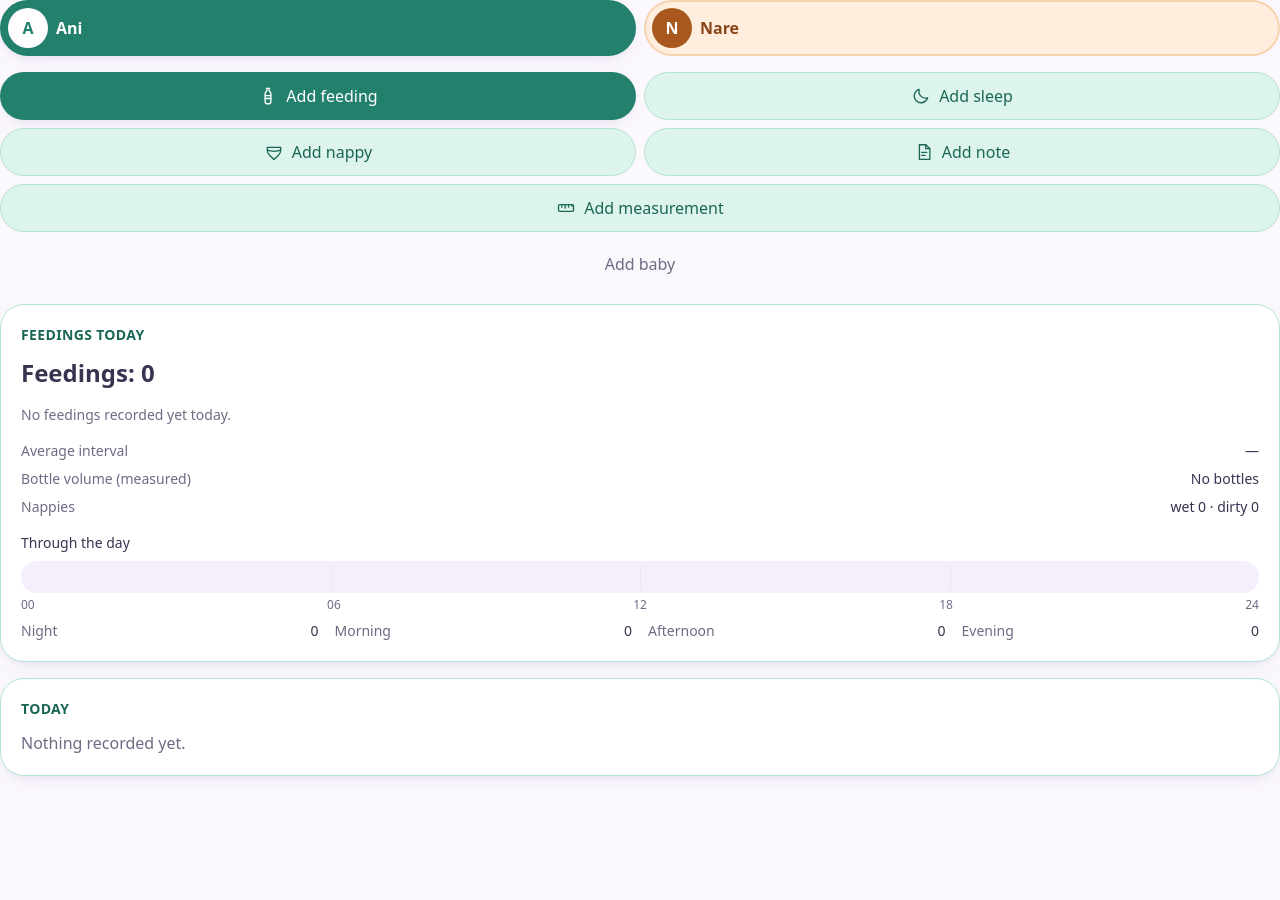
Test: adding a note › opens the note form when the Add note action is used
Click the button "Add note": (962, 152) [644,128,1279,176]
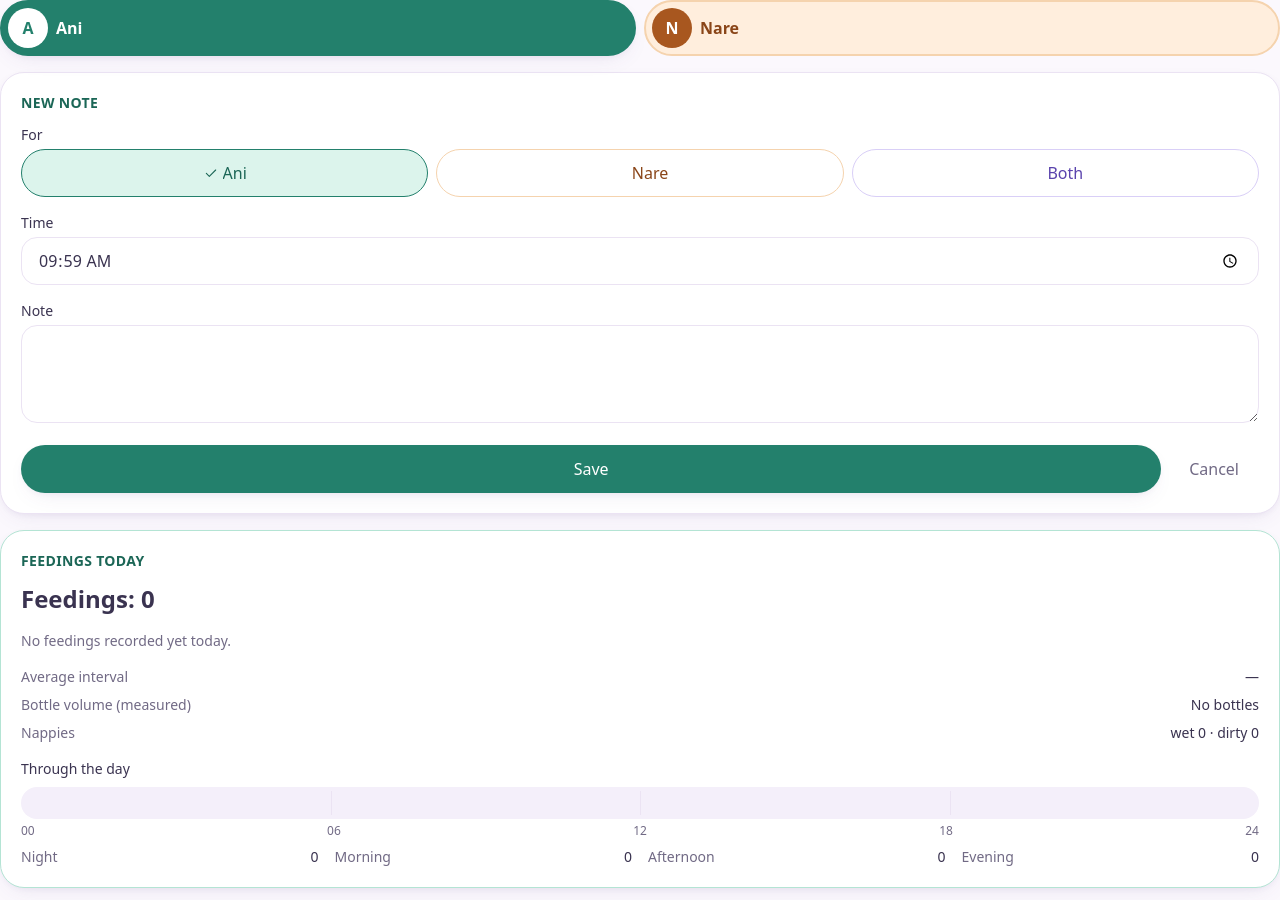
Result: the heading "New note" is shown at [21,93,98,112]
Result: the text box labelled "Note" is empty at [21,325,1259,423]
Result: the button "Save" is shown at [21,445,1161,493]
